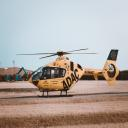helicopter: (17, 49, 120, 99)
